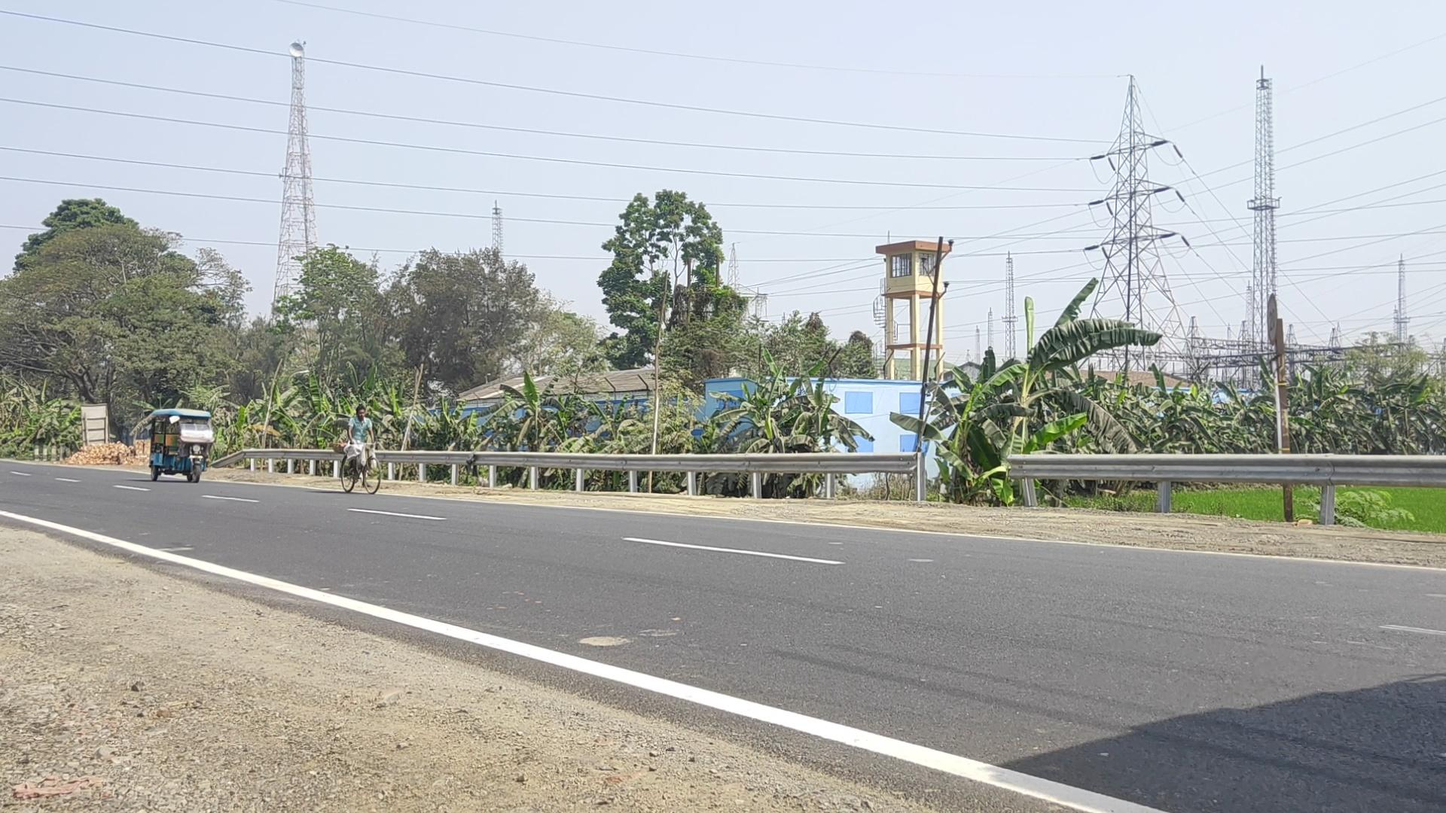Auto: (148, 408, 214, 484)
bike: (333, 405, 382, 495)
